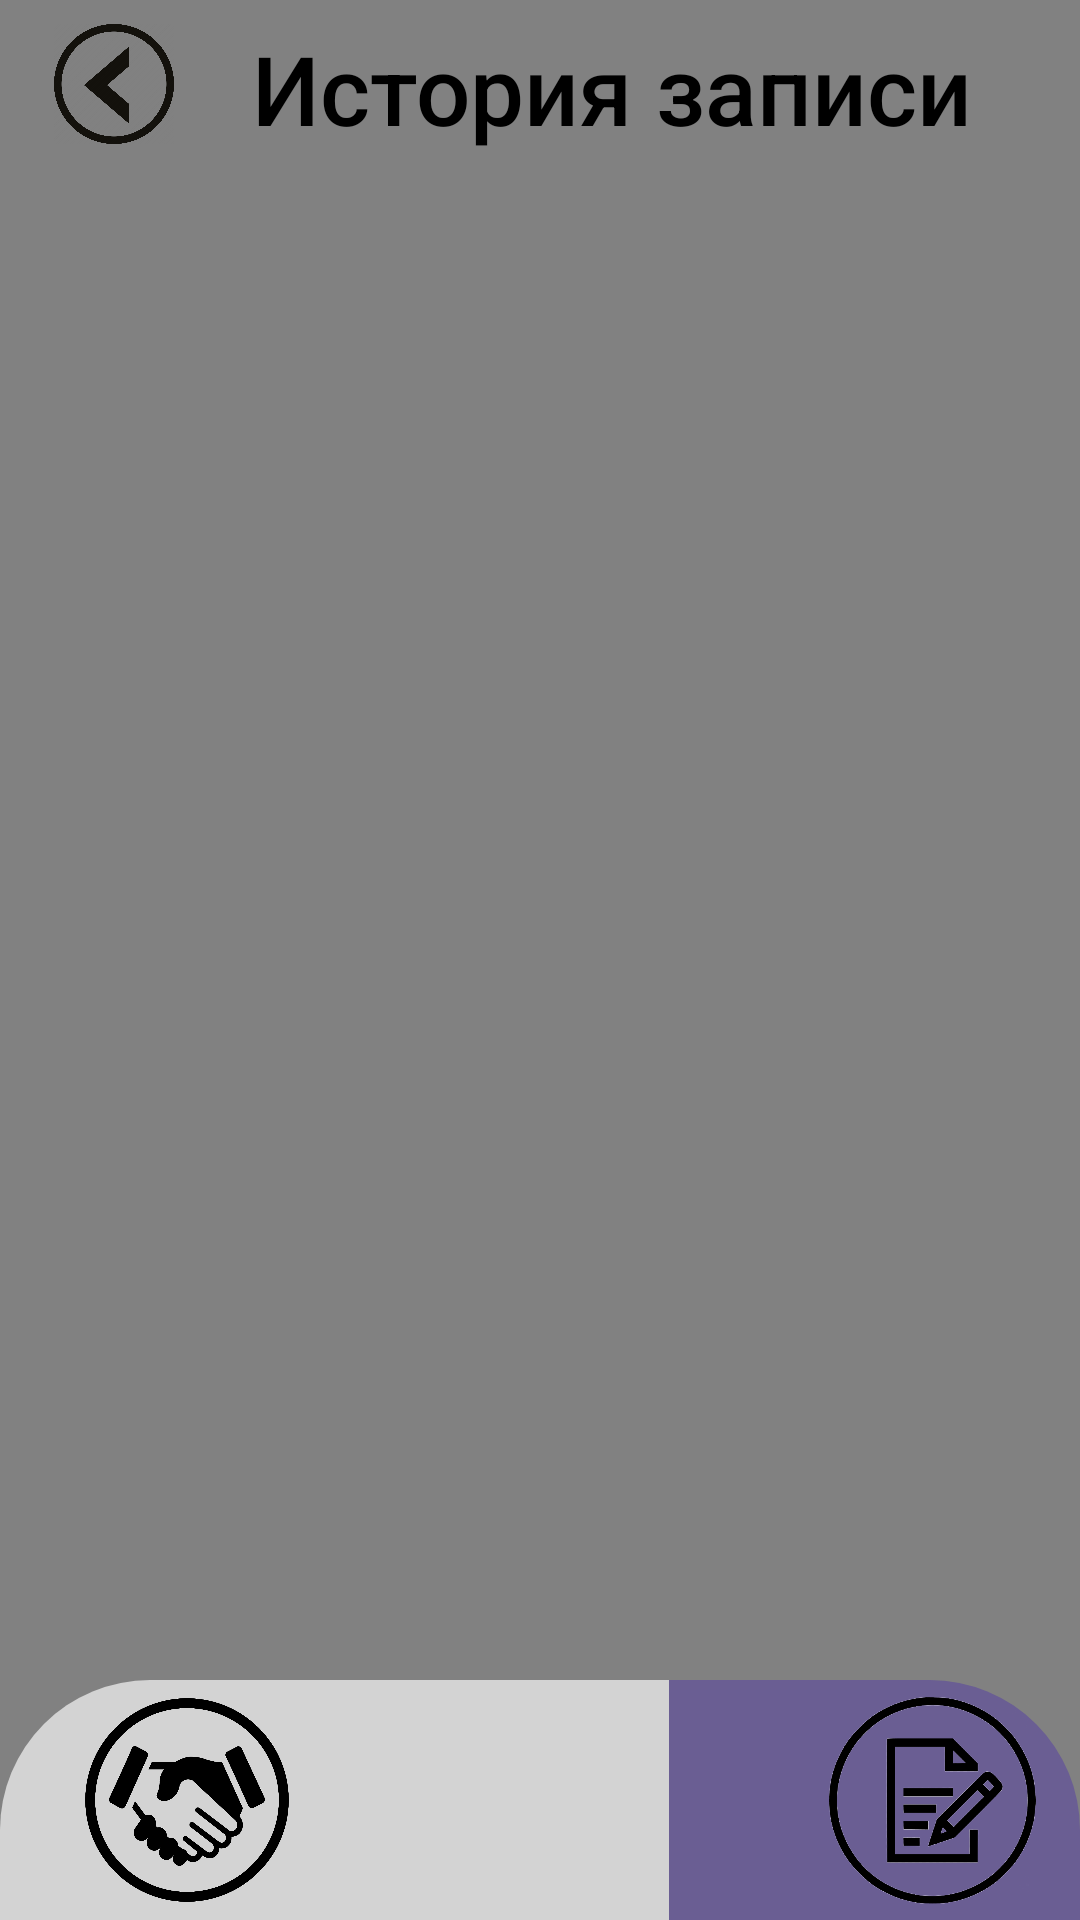

Icon bounding boxes for this 1080px×1920px phone screenshot, format (left=x1, top=y1, right=x2, bottom=y2):
back: (left=54, top=24, right=174, bottom=144)
uslugi: (left=85, top=1698, right=289, bottom=1902)
zapis: (left=829, top=1697, right=1036, bottom=1904)
